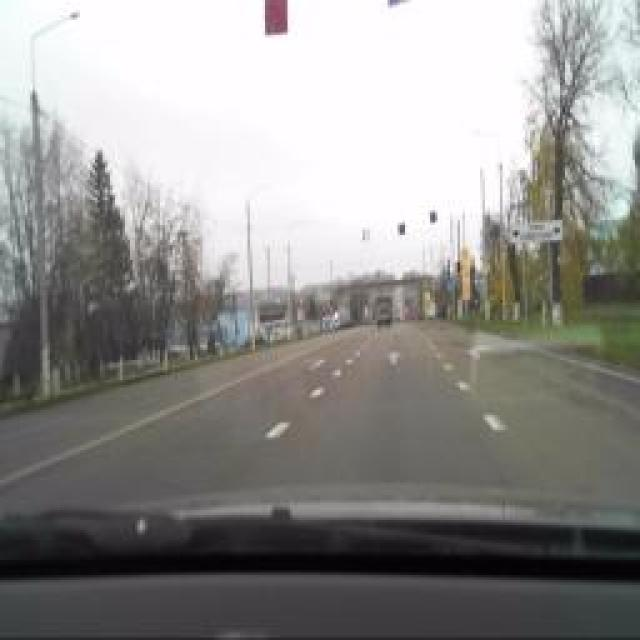sign: (461, 282, 471, 300)
